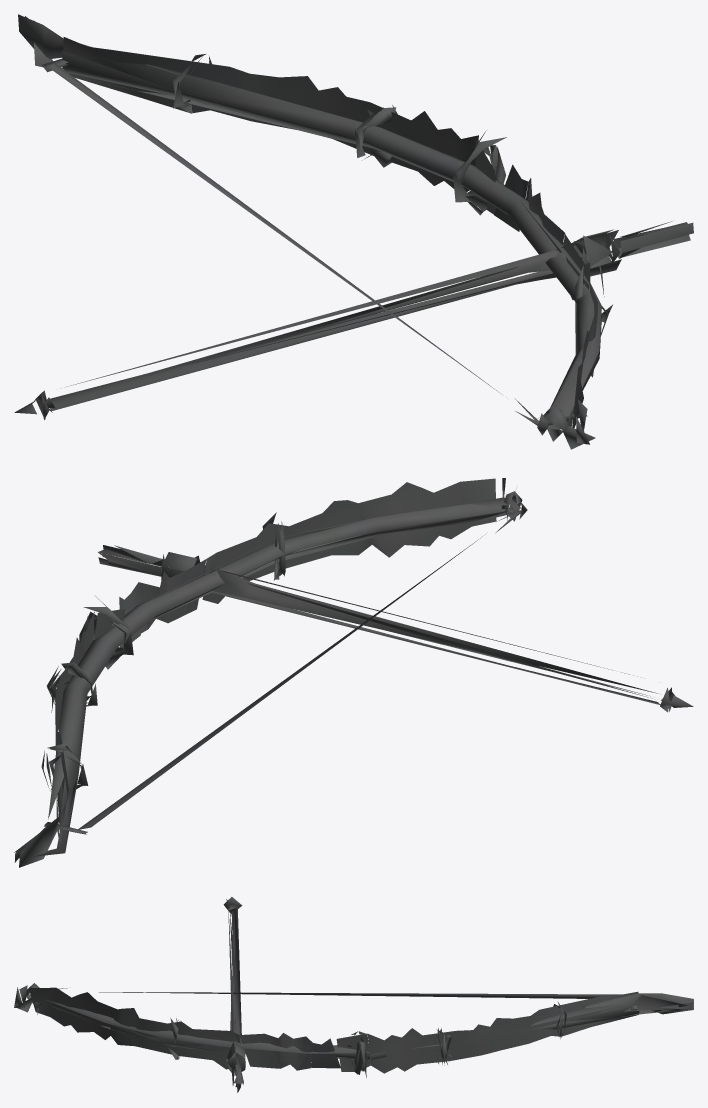
Rendered from g_bow_lod1.fbx.
3 renders of one model, top to bottom at view 1: azimuth 30°, elevation 25°; view 2: azimuth 150°, elevation 25°; view 3: azimuth 270°, elevation 25°, orthographic. The views are drawn at different scales.
Visible parts, largest first — view 1: tripo_node_b2b47ae2-1abf-4728-a4b0-fc077c6eb8c0; view 2: tripo_node_b2b47ae2-1abf-4728-a4b0-fc077c6eb8c0; view 3: tripo_node_b2b47ae2-1abf-4728-a4b0-fc077c6eb8c0.
Part boxes in pixels (x1,y1,x2,y2): tripo_node_b2b47ae2-1abf-4728-a4b0-fc077c6eb8c0: [14, 14, 693, 449]; tripo_node_b2b47ae2-1abf-4728-a4b0-fc077c6eb8c0: [14, 478, 693, 867]; tripo_node_b2b47ae2-1abf-4728-a4b0-fc077c6eb8c0: [14, 897, 693, 1092].
Size of the model in its own units: 0.8574 by 0.0969 by 1.24.
